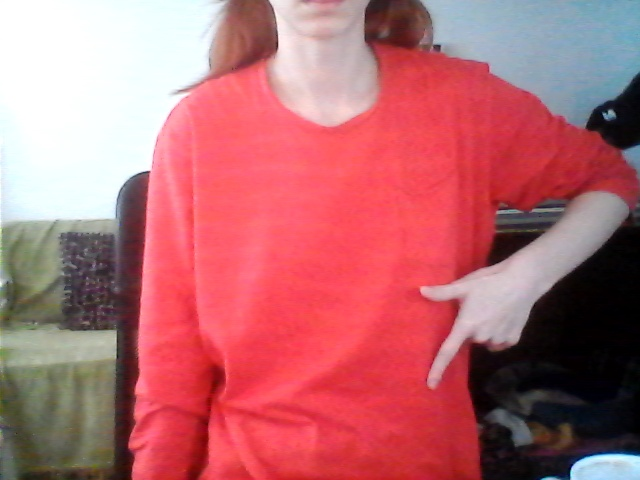policia: (413, 257, 545, 398)
